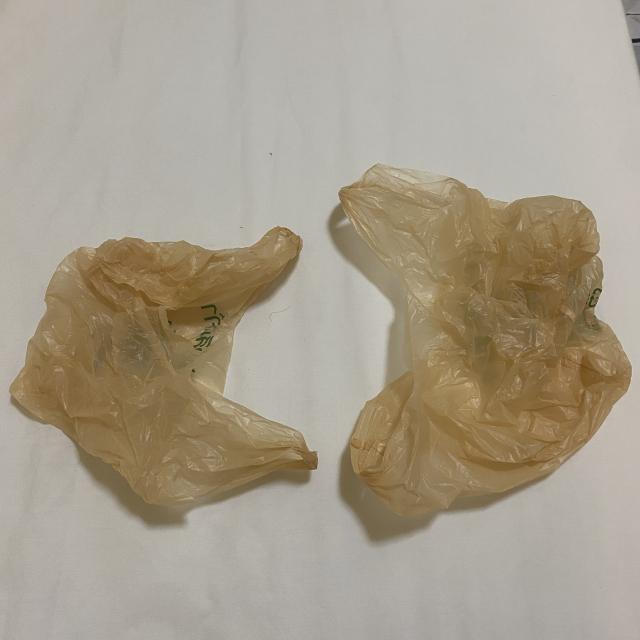Single-layer Plastic: (339, 164, 631, 515), (10, 226, 318, 505)
